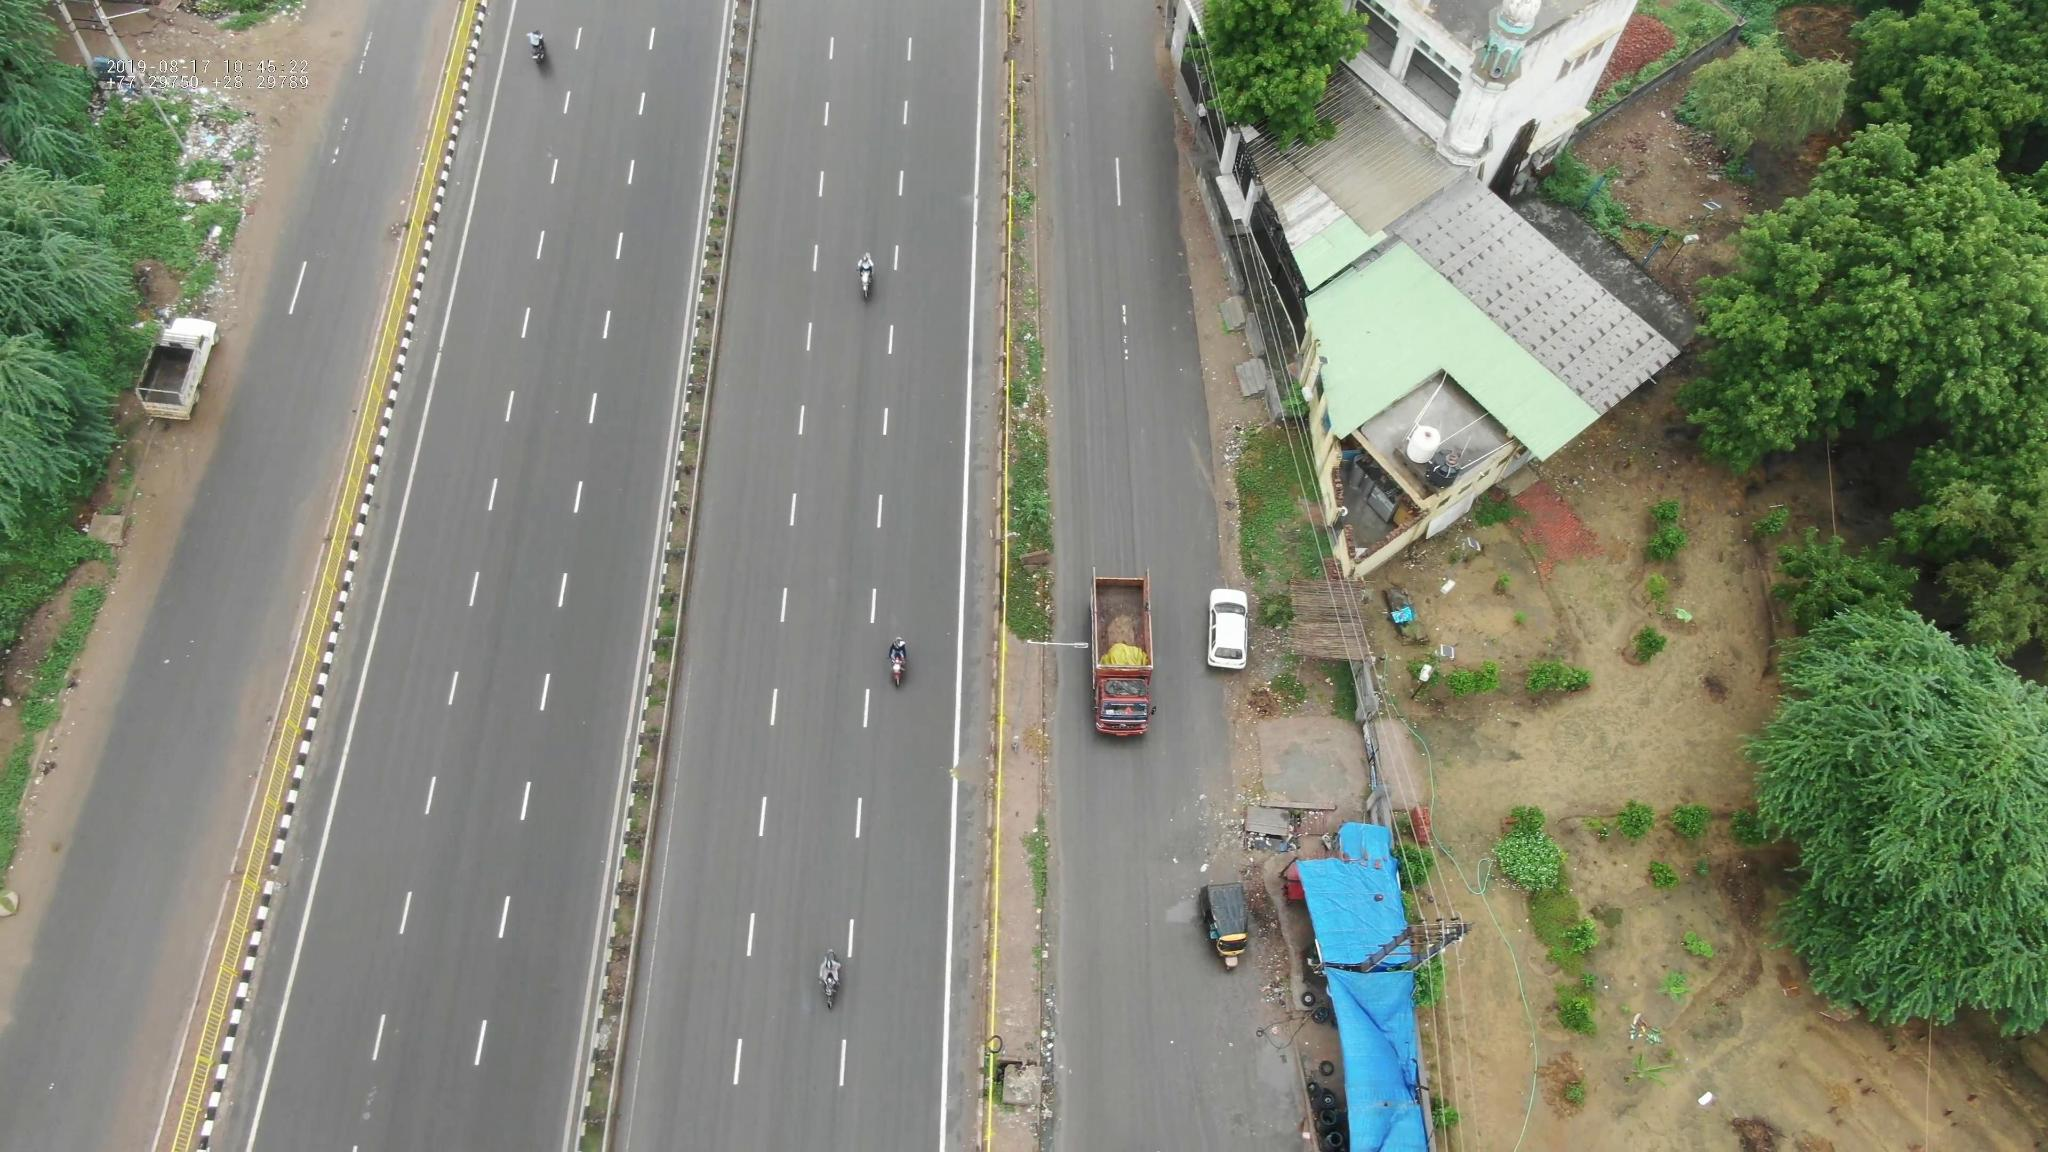Road_side_garbage: (166, 89, 264, 207)
